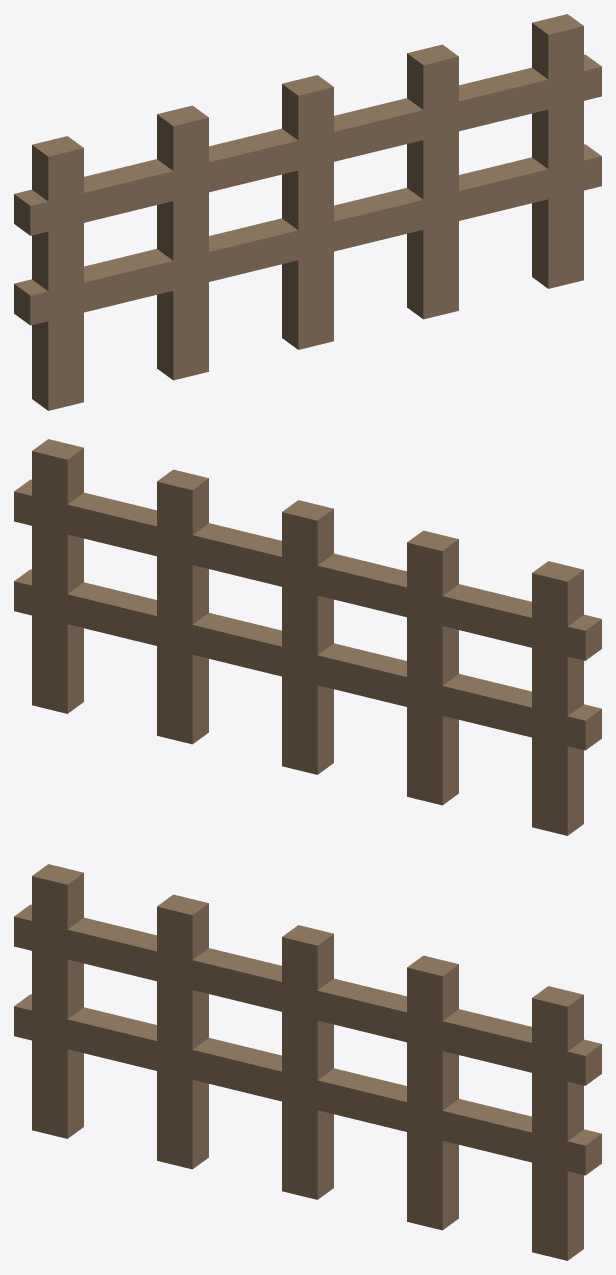
File: SM_FenceSegment.fbx
3 views of the same model, one above another, from view 1: azimuth 30°, elevation 25°; view 2: azimuth 150°, elevation 25°; view 3: azimuth 330°, elevation 25° (orthographic).
Visible parts, largest first — view 1: SM_FenceSegment; view 2: SM_FenceSegment; view 3: SM_FenceSegment.
Boxes of the visible parts, box(x1,y1,x2,y2) form: SM_FenceSegment: box(14, 14, 601, 410); SM_FenceSegment: box(14, 439, 601, 835); SM_FenceSegment: box(14, 864, 601, 1260).
Size of the model in its own units: 800 by 340 by 40.
